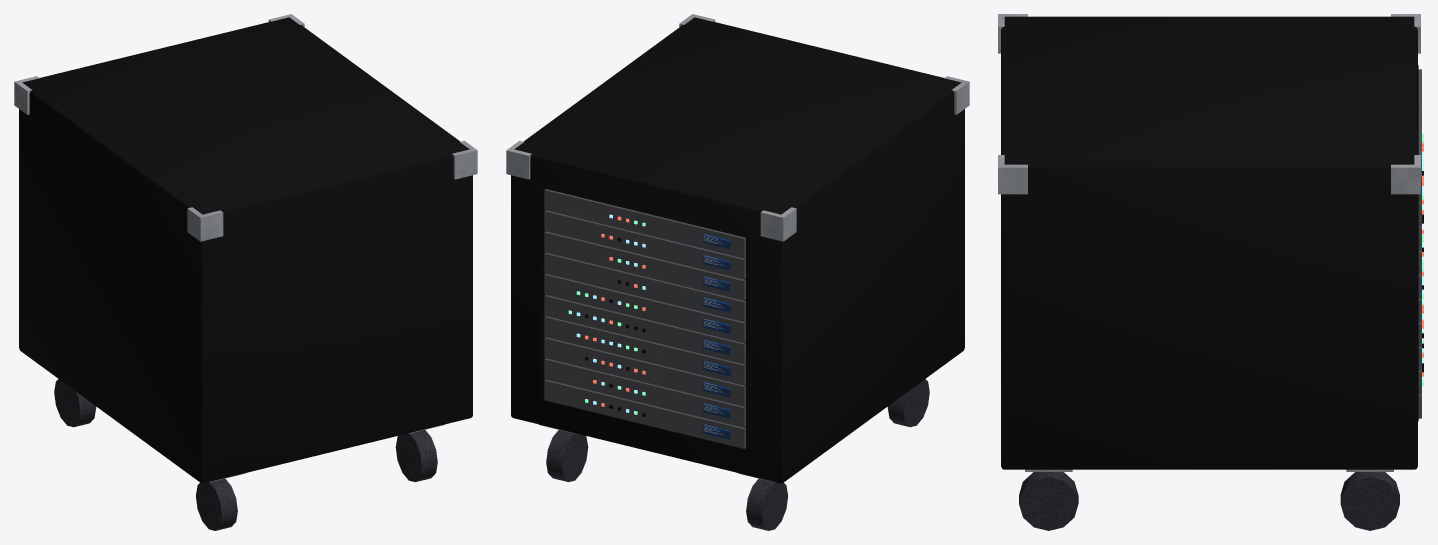
Rendered from rack_iem.gltf.
3 renders of one model, left to right at view 1: azimuth 30°, elevation 25°; view 2: azimuth 150°, elevation 25°; view 3: azimuth 270°, elevation 25°, orthographic. The views are drawn at different scales.
Parts seen in each view (by area): view 1: rack_iem; view 2: rack_iem; view 3: rack_iem.
Part boxes in pixels (bbox=[...]): rack_iem: bbox=[14, 14, 477, 530]; rack_iem: bbox=[506, 14, 969, 530]; rack_iem: bbox=[998, 14, 1423, 530].
Size of the model in its own units: 0.61 by 0.705 by 0.715.
Materials: 10 (7 with a texture image).
